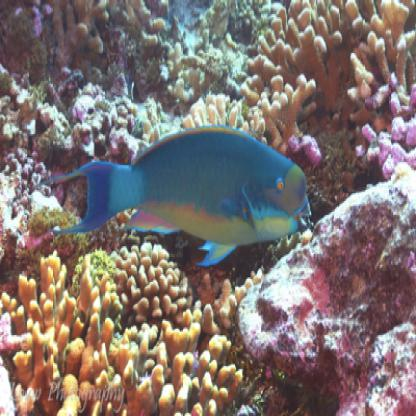Scaridae -Parrotfishes-: (39, 124, 319, 271)
